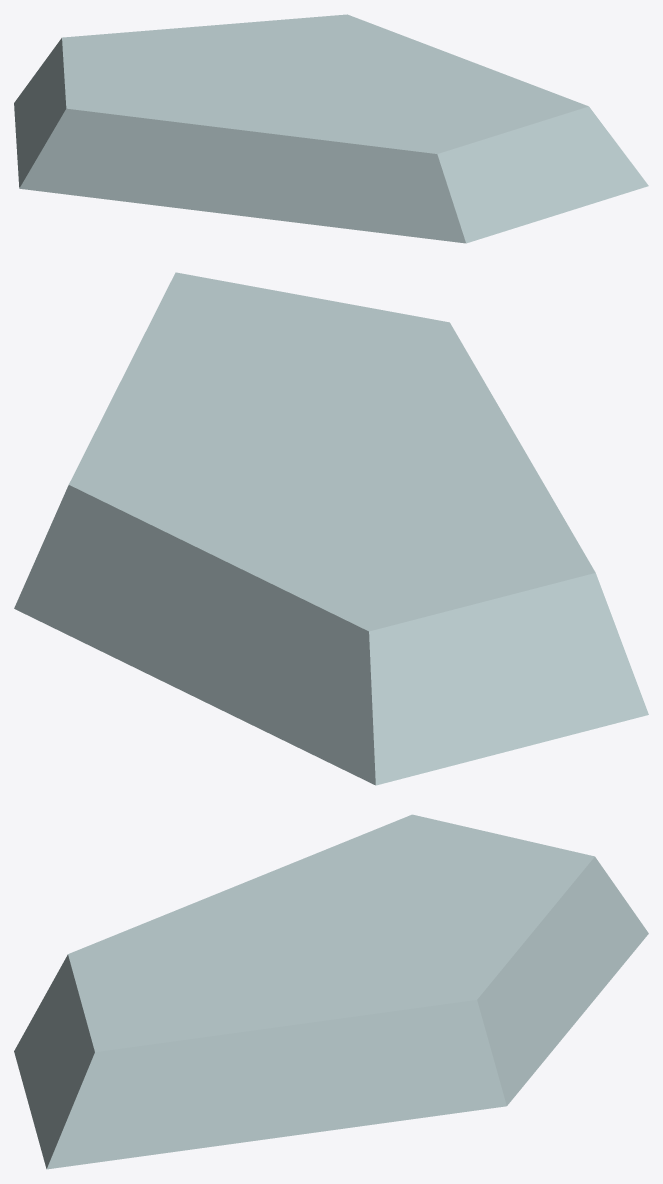
Rendered from stone_smallFlatB.glb.
The picture shows the model from 3 angles, top to bottom: view 1: azimuth 30°, elevation 25°; view 2: azimuth 150°, elevation 25°; view 3: azimuth 270°, elevation 25°; orthographic projection. The views are drawn at different scales.
Parts seen in each view (by area): view 1: stone_smallFlatB; view 2: stone_smallFlatB; view 3: stone_smallFlatB.
Boxes of the visible parts, bbox=[...] form: stone_smallFlatB: bbox=[14, 14, 648, 243]; stone_smallFlatB: bbox=[14, 272, 648, 785]; stone_smallFlatB: bbox=[14, 814, 648, 1169].
Size of the model in its own units: 0.4295 by 0.0649 by 0.4024.
